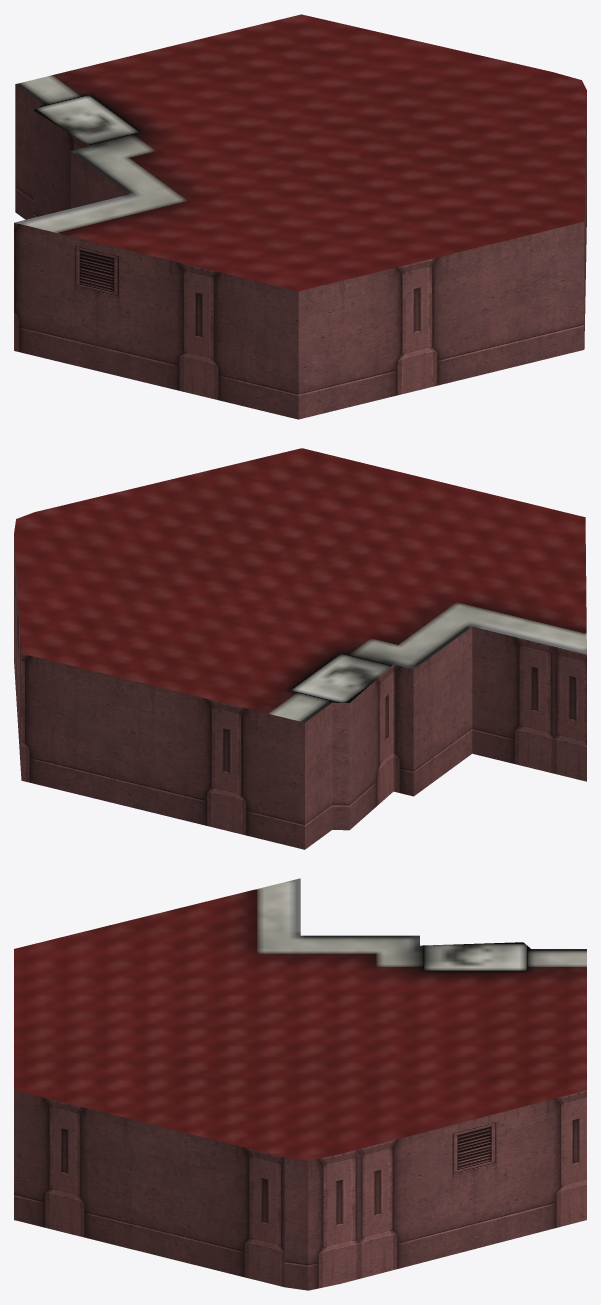
Rendered from hardened_roof65.glb.
The picture shows the model from 3 angles, top to bottom: view 1: azimuth 30°, elevation 25°; view 2: azimuth 150°, elevation 25°; view 3: azimuth 270°, elevation 25°; orthographic projection. The views are drawn at different scales.
Parts seen in each view (by area): view 1: buildings/saxarba/hard/hardened_roof65; view 2: buildings/saxarba/hard/hardened_roof65; view 3: buildings/saxarba/hard/hardened_roof65.
Boxes of the visible parts, bbox=[...] form: buildings/saxarba/hard/hardened_roof65: bbox=[14, 14, 586, 419]; buildings/saxarba/hard/hardened_roof65: bbox=[14, 448, 586, 849]; buildings/saxarba/hard/hardened_roof65: bbox=[14, 878, 586, 1290].
Size of the model in its own units: 84 by 18 by 72.
